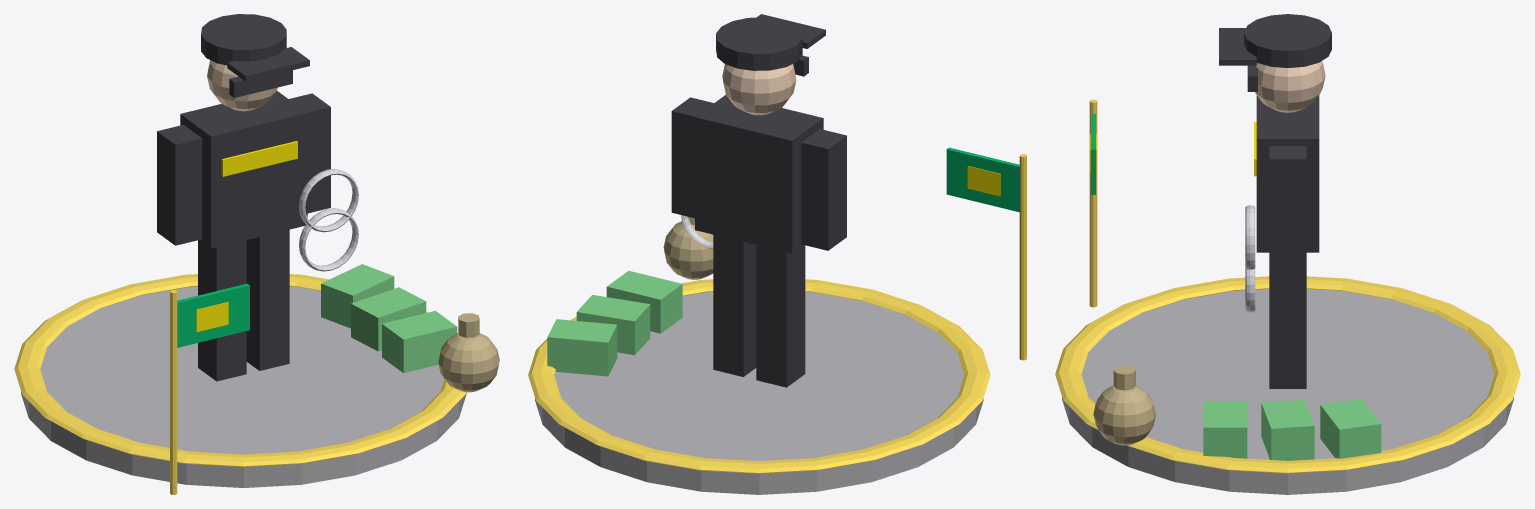
The model's file is Agente_L3.fbx.
The picture shows the model from 3 angles, left to right: view 1: azimuth 30°, elevation 25°; view 2: azimuth 150°, elevation 25°; view 3: azimuth 270°, elevation 25°; orthographic projection.
Parts seen in each view (by area): view 1: Agente_L3.001; view 2: Agente_L3.001; view 3: Agente_L3.001.
Boxes of the visible parts, x1=… form: Agente_L3.001: x1=14, y1=14, x2=499, y2=494; Agente_L3.001: x1=528, y1=14, x2=1026, y2=494; Agente_L3.001: x1=1055, y1=14, x2=1520, y2=494.
Bounding box in the file's own units: 3.71 × 3.23 × 3.71.
